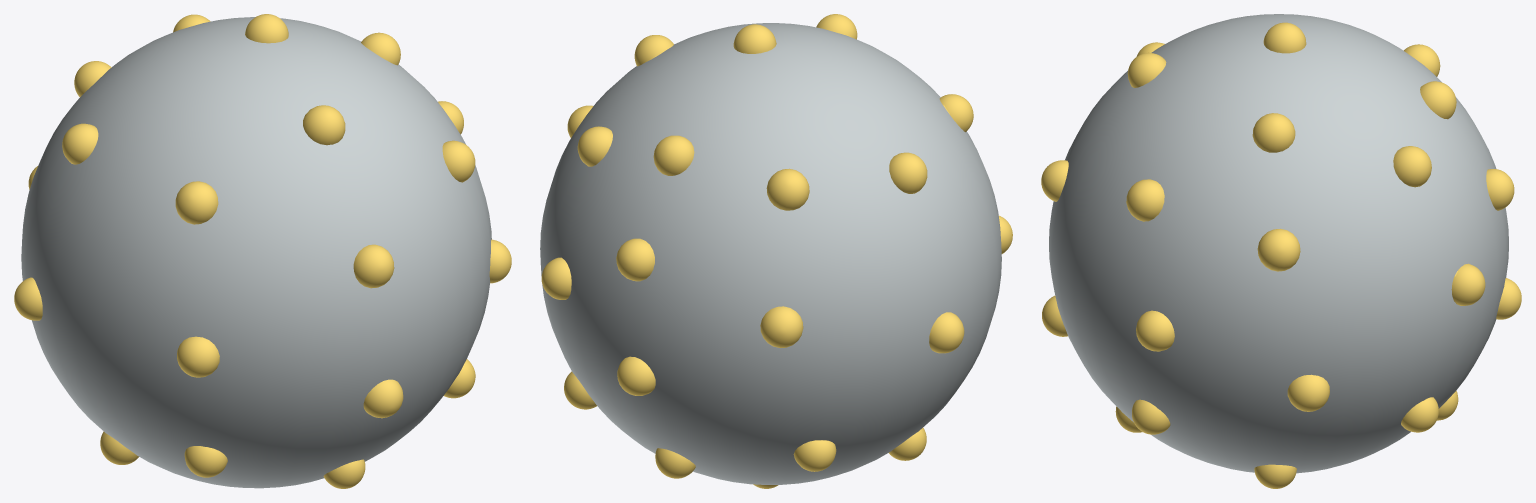
The model's file is yzjg2_2.gltf.
3 views of the same model, side by side, from view 1: azimuth 30°, elevation 25°; view 2: azimuth 150°, elevation 25°; view 3: azimuth 270°, elevation 25° (orthographic). The views are drawn at different scales.
Visible parts, largest first — view 1: buding_waiceng, buding (1); view 2: buding_waiceng, buding (1); view 3: buding_waiceng, buding (1).
Part boxes in pixels (bbox=[...]): buding_waiceng: bbox=[21, 17, 491, 488]; buding (1): bbox=[14, 14, 511, 488]; buding_waiceng: bbox=[540, 23, 1001, 484]; buding (1): bbox=[541, 14, 1012, 488]; buding_waiceng: bbox=[1049, 14, 1508, 473]; buding (1): bbox=[1041, 22, 1521, 488].
Bounding box in the file's own units: 101 × 104 × 100.
